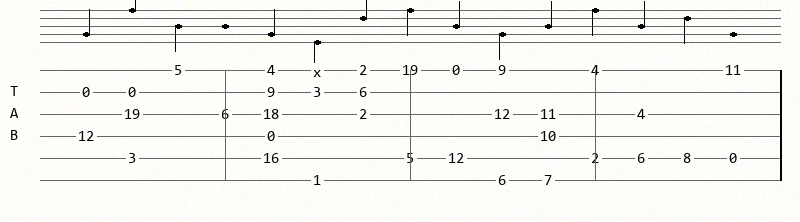0: (82, 85, 94, 99), (128, 85, 140, 99), (267, 129, 279, 143), (452, 63, 464, 77), (729, 151, 741, 165)
1: (313, 173, 325, 187)
10: (540, 129, 560, 143)
11: (540, 107, 560, 121), (725, 63, 745, 77)
12: (78, 129, 98, 143), (448, 151, 468, 165), (494, 107, 514, 121)
16: (263, 151, 283, 165)
18: (263, 107, 283, 121)
19: (124, 107, 144, 121), (402, 63, 422, 77)
2: (359, 63, 371, 77), (359, 107, 371, 121), (591, 151, 603, 165)
3: (128, 151, 140, 165), (313, 85, 325, 99)
4: (267, 63, 279, 77), (591, 63, 603, 77), (637, 107, 649, 121)
5: (174, 63, 186, 77), (406, 151, 418, 165)
6: (221, 107, 233, 121), (359, 85, 371, 99), (498, 173, 510, 187), (637, 151, 649, 165)
7: (544, 173, 556, 187)
8: (683, 151, 695, 165)
9: (267, 85, 279, 99), (498, 63, 510, 77)
x: (313, 65, 325, 76)
